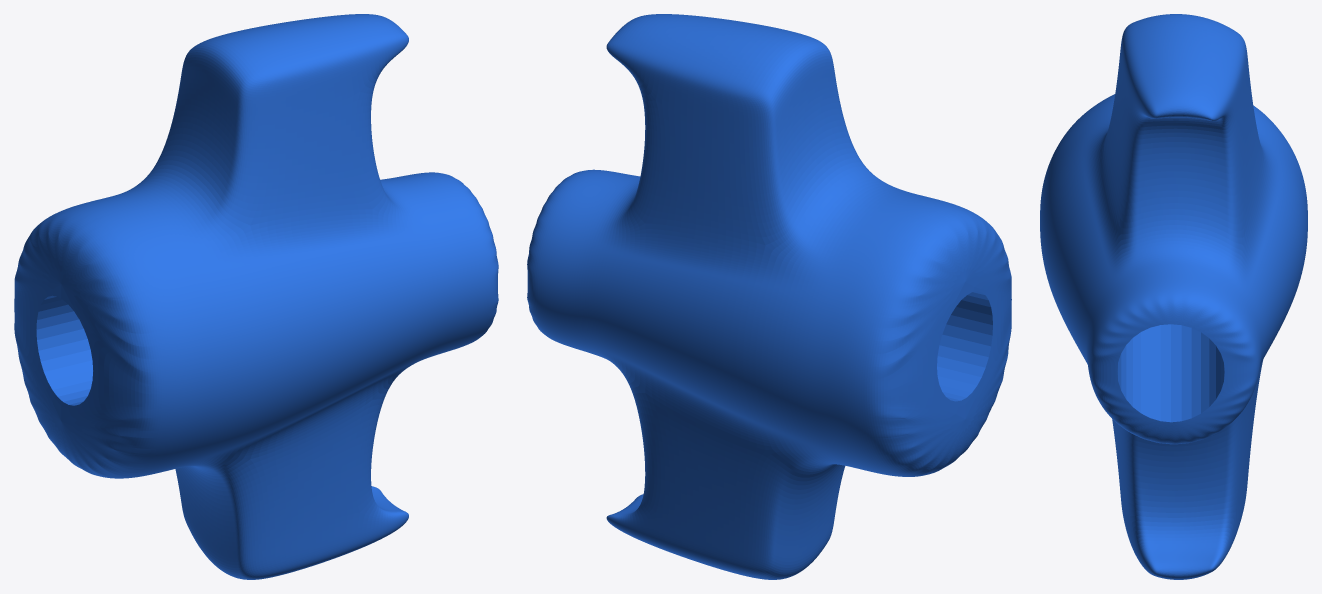
The model's file is ColumnPin_1.fbx.
3 renders of one model, left to right at view 1: azimuth 30°, elevation 25°; view 2: azimuth 150°, elevation 25°; view 3: azimuth 270°, elevation 25°, orthographic. The views are drawn at different scales.
Visible parts, largest first — view 1: Cylinder; view 2: Cylinder; view 3: Cylinder.
Part boxes in pixels (bbox=[...]): Cylinder: bbox=[14, 14, 498, 579]; Cylinder: bbox=[527, 14, 1011, 579]; Cylinder: bbox=[1040, 14, 1307, 579].
Bounding box in the file's own units: 334 × 415 × 199.
